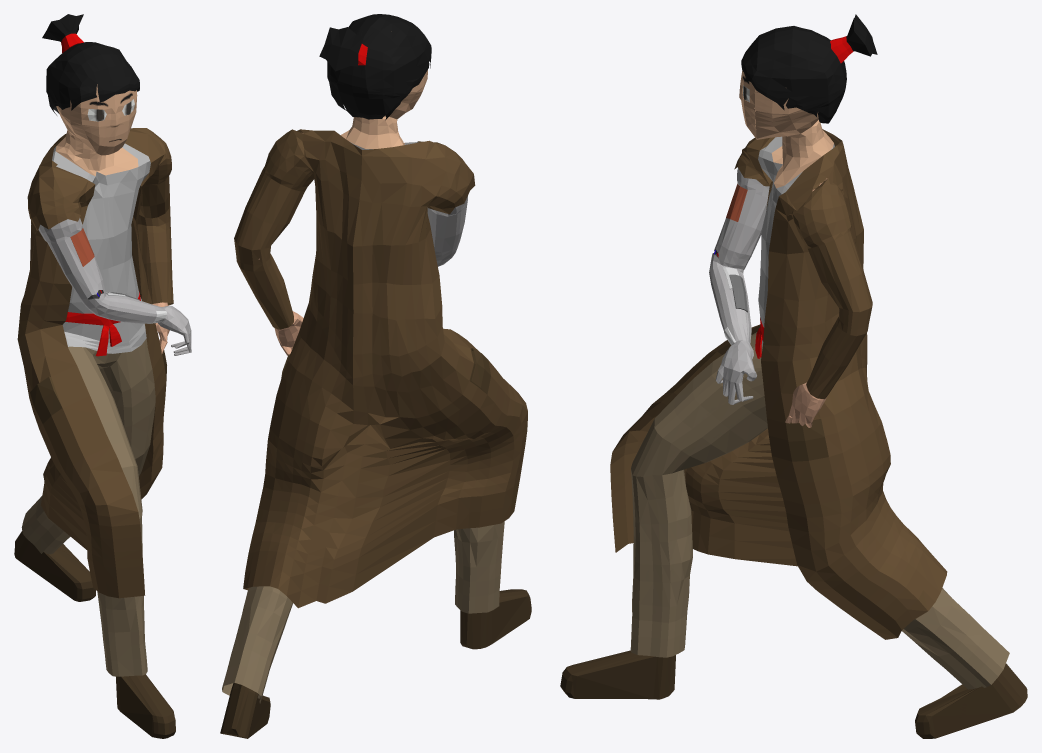
The model's file is One_Bash_000015.obj.
The picture shows the model from 3 angles, left to right: view 1: azimuth 30°, elevation 25°; view 2: azimuth 150°, elevation 25°; view 3: azimuth 270°, elevation 25°; orthographic projection. The views are drawn at different scales.
Parts seen in each view (by area): view 1: Hair_Cube.004; view 2: Hair_Cube.004; view 3: Hair_Cube.004.
Boxes of the visible parts, x1=… form: Hair_Cube.004: x1=14, y1=14, x2=191, y2=738; Hair_Cube.004: x1=220, y1=14, x2=531, y2=738; Hair_Cube.004: x1=560, y1=14, x2=1027, y2=738.
Size of the model in its own units: 1.11 by 3.68 by 2.25.
